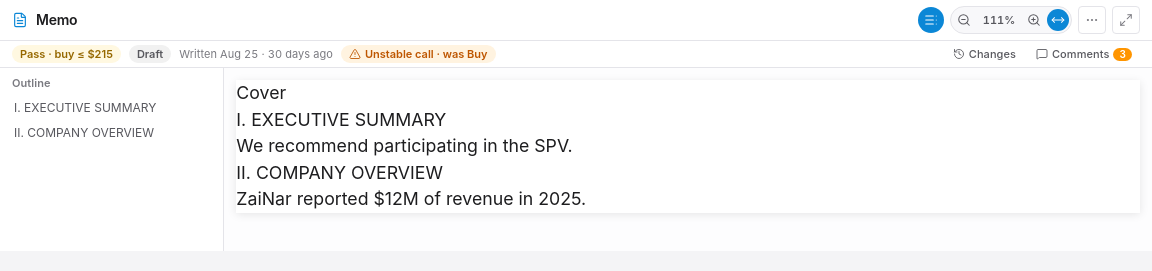
Test: Flagging a passage in the viewer › opens the comments from the line under the header, with the open count
Expected: the text with test id "viewer-comments-count" reads "3", 1119,48 -> 1126,60
Click the button with test id "viewer-comments-toggle": (1084, 54) 1028,45 -> 1140,63
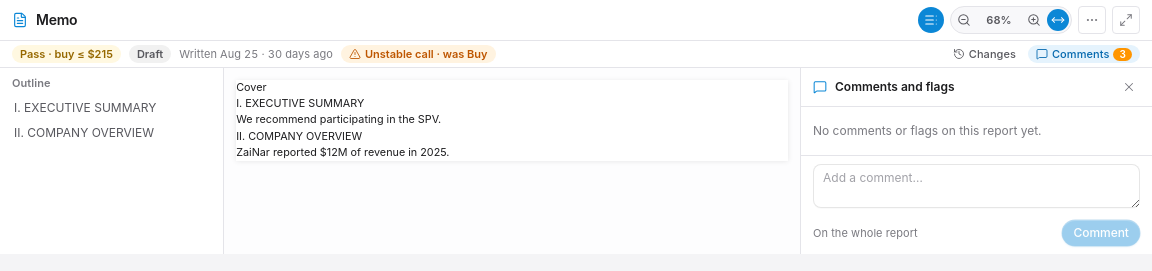
Expected: the element with test id "comments-panel" is shown, 801,68 -> 1151,254
